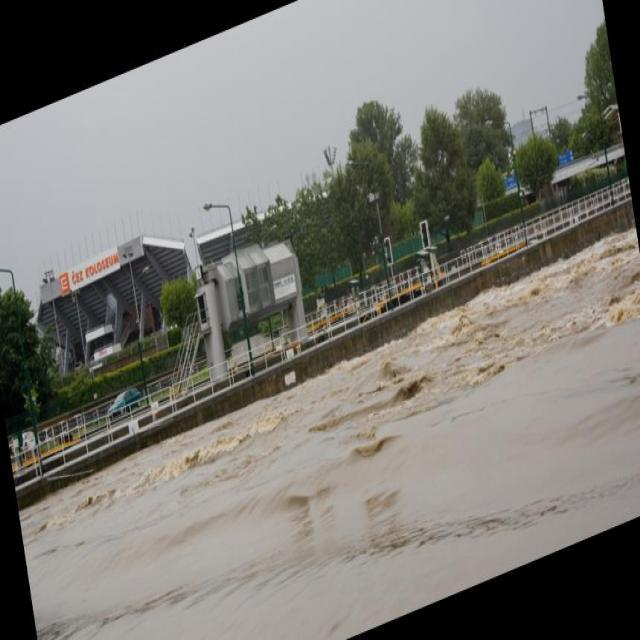flood: (17, 224, 640, 639)
